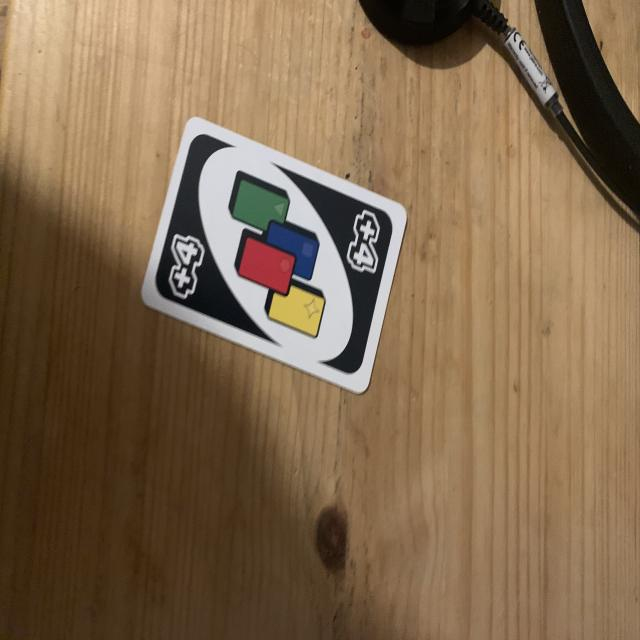lcolor-400: (164, 229, 213, 308)
